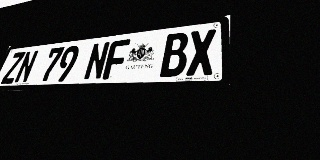7: (38, 47, 65, 82)
9: (54, 45, 81, 82)
B: (160, 32, 189, 77)
F: (102, 39, 130, 80)
N: (83, 41, 111, 80), (13, 50, 39, 83)
X: (186, 29, 216, 76)
Z: (0, 52, 26, 84)
